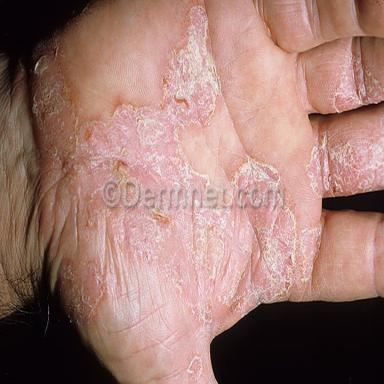eczema: (27, 4, 323, 330), (304, 122, 383, 199), (333, 47, 384, 113), (231, 159, 281, 188)
